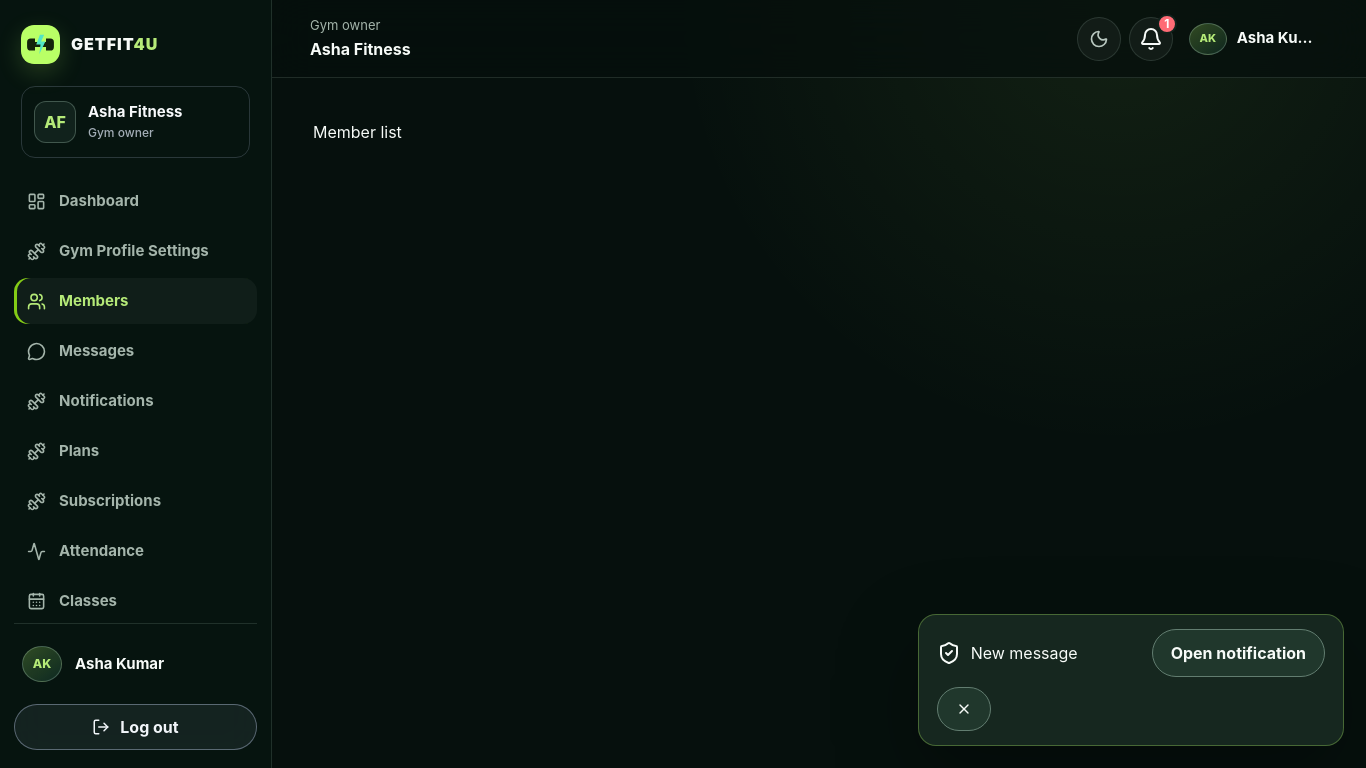
Test case: offers an accessible foreground notification link to the exact conversation and dismiss action
Check: the message with class "toast" shows "New message", box [971,643,1078,663]
Check: the button named "Dismiss notification" is shown, box [937,687,991,731]
Click the link "Open notification" at (1238, 653), box [1152,629,1325,677]
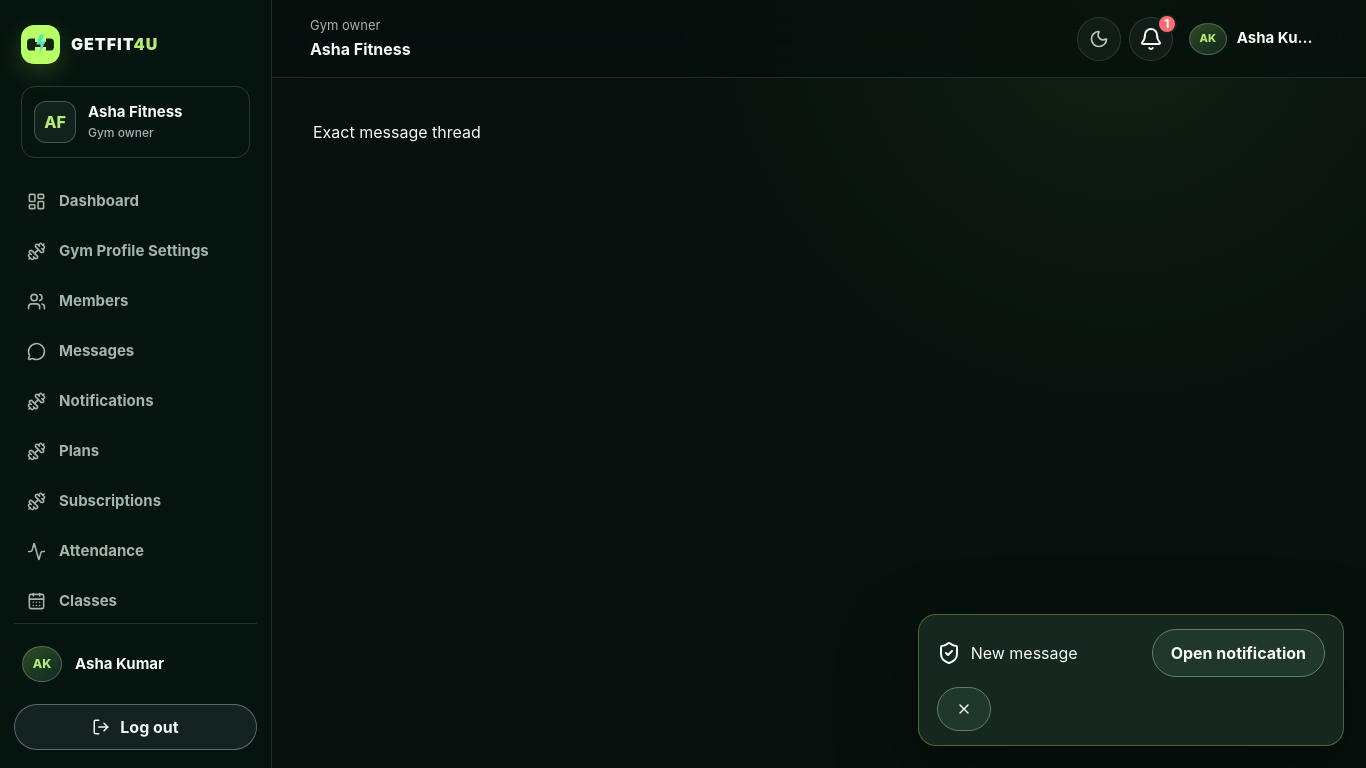
Check: the text "Exact message thread" is shown, box [313,122,481,142]
